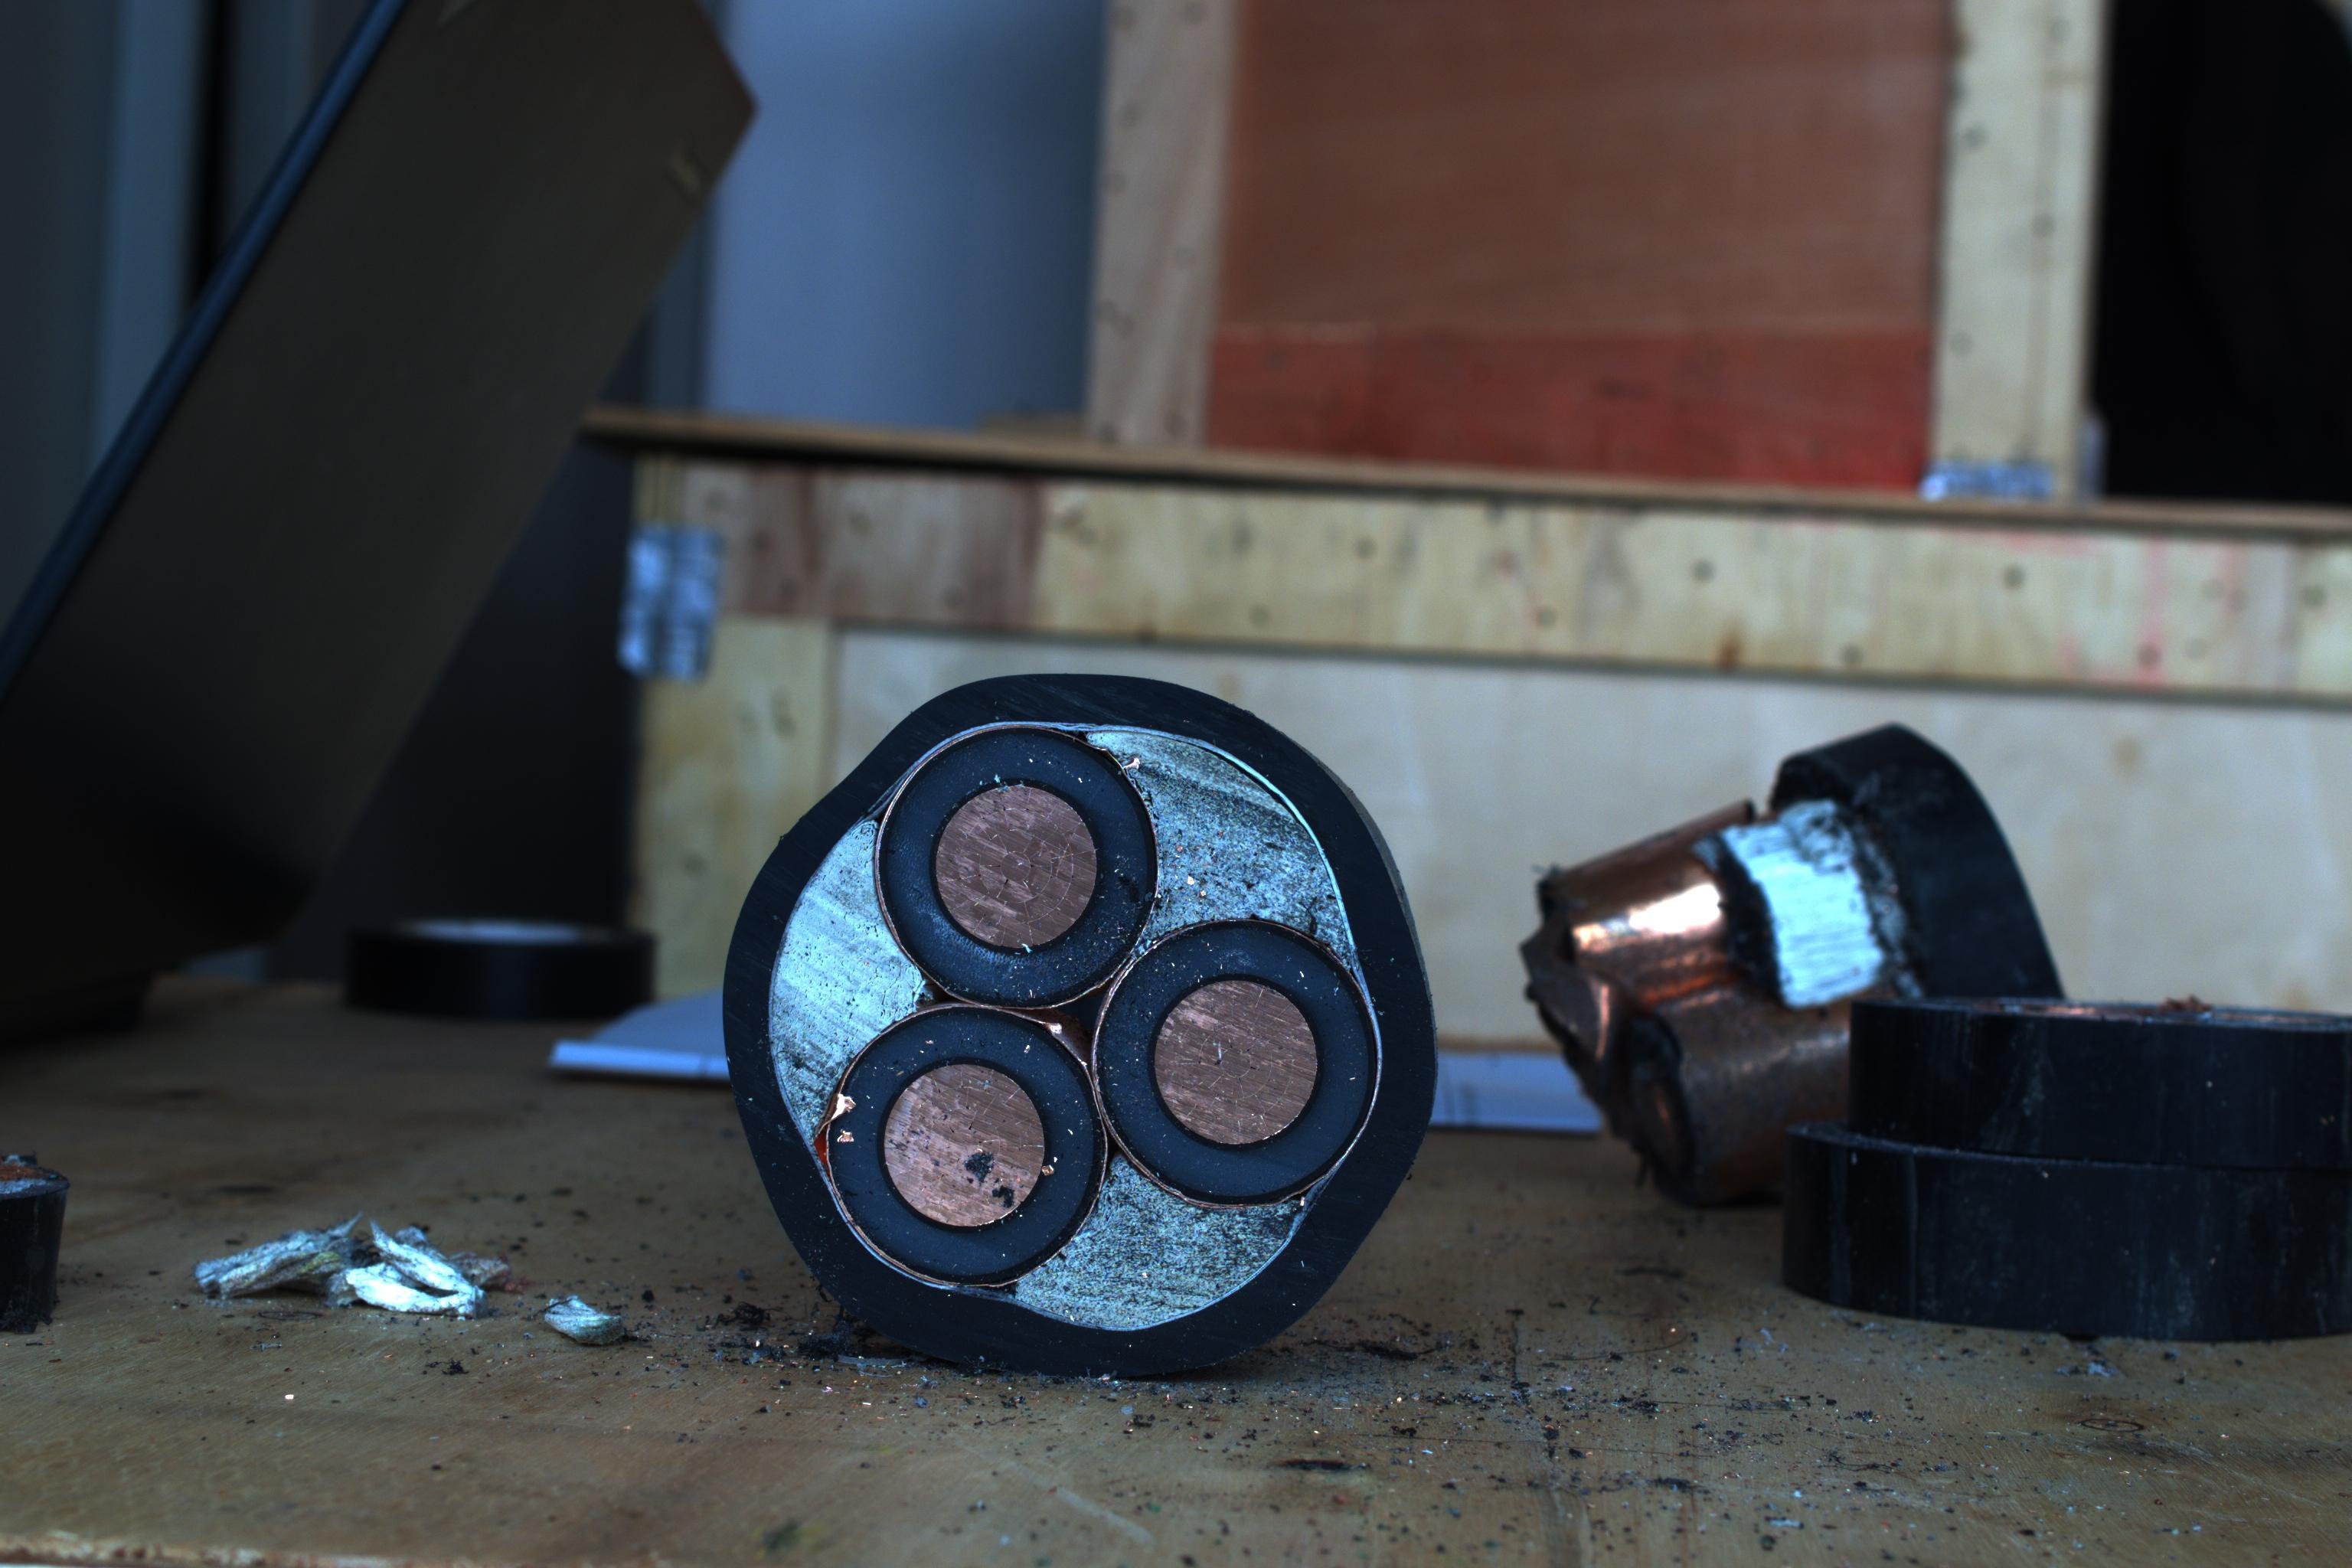ZA_YJV_8.7_10kV_3x240: (759, 705, 1375, 1381)
